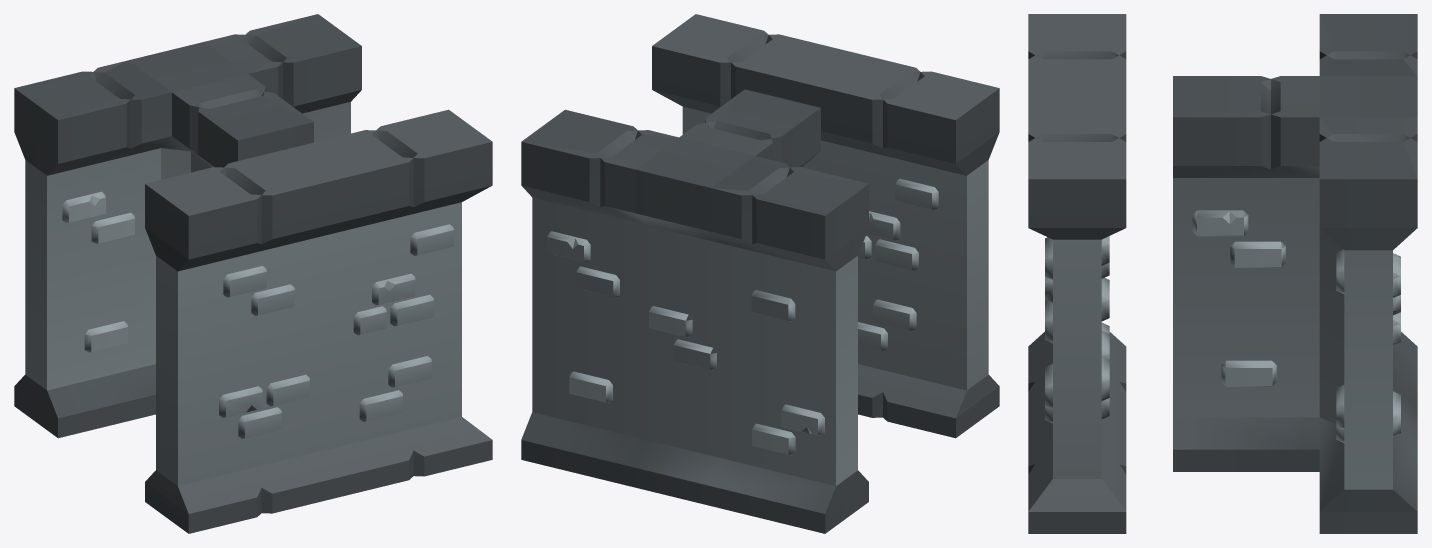
File: godot_tiles.glb
The picture shows the model from 3 angles, left to right: view 1: azimuth 30°, elevation 25°; view 2: azimuth 150°, elevation 25°; view 3: azimuth 270°, elevation 25°; orthographic projection. The views are drawn at different scales.
Visible parts, largest first — view 1: wall_end, wall_crossing_T; view 2: wall_crossing_T, wall_end; view 3: wall_crossing_T, wall_end.
Boxes of the visible parts, x1,y1,x2,y2 form: wall_end: (145, 109, 492, 533); wall_crossing_T: (14, 14, 361, 438); wall_crossing_T: (521, 89, 868, 533); wall_end: (652, 14, 999, 438); wall_crossing_T: (1173, 14, 1417, 533); wall_end: (1028, 14, 1126, 533).
Size of the model in its own units: 4 by 4 by 3.98.
2 materials, 2 textured.
